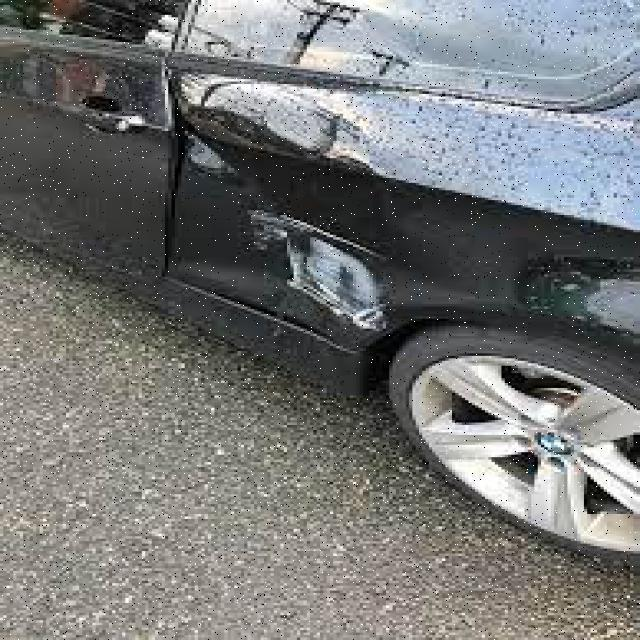quaterpanel-dent: (172, 64, 636, 388)
